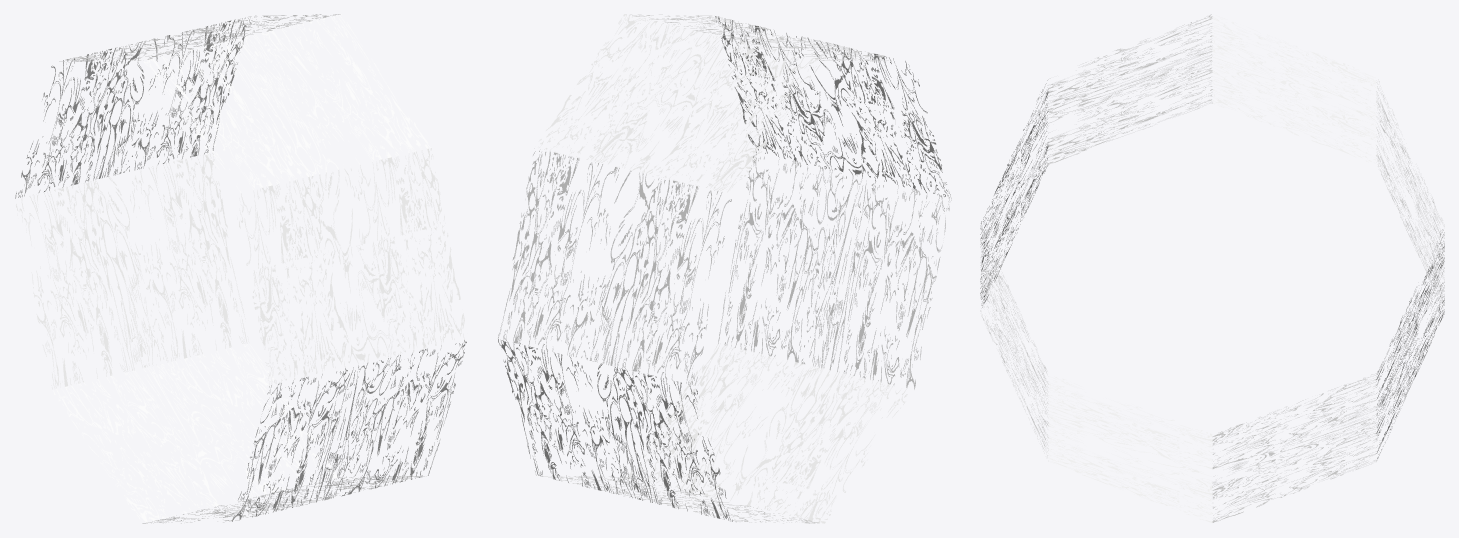
Rendered from hatecircle3.glb.
3 renders of one model, left to right at view 1: azimuth 30°, elevation 25°; view 2: azimuth 150°, elevation 25°; view 3: azimuth 270°, elevation 25°, orthographic. The views are drawn at different scales.
Parts seen in each view (by area): view 1: Cylinder; view 2: Cylinder; view 3: Cylinder.
Boxes of the visible parts, x1,y1,x2,y2 form: Cylinder: (15, 14, 466, 523); Cylinder: (498, 14, 951, 523); Cylinder: (980, 14, 1444, 522).
Bounding box in the file's own units: 5.15 × 11.41 × 11.37.
Materials: 1 (1 with a texture image).
